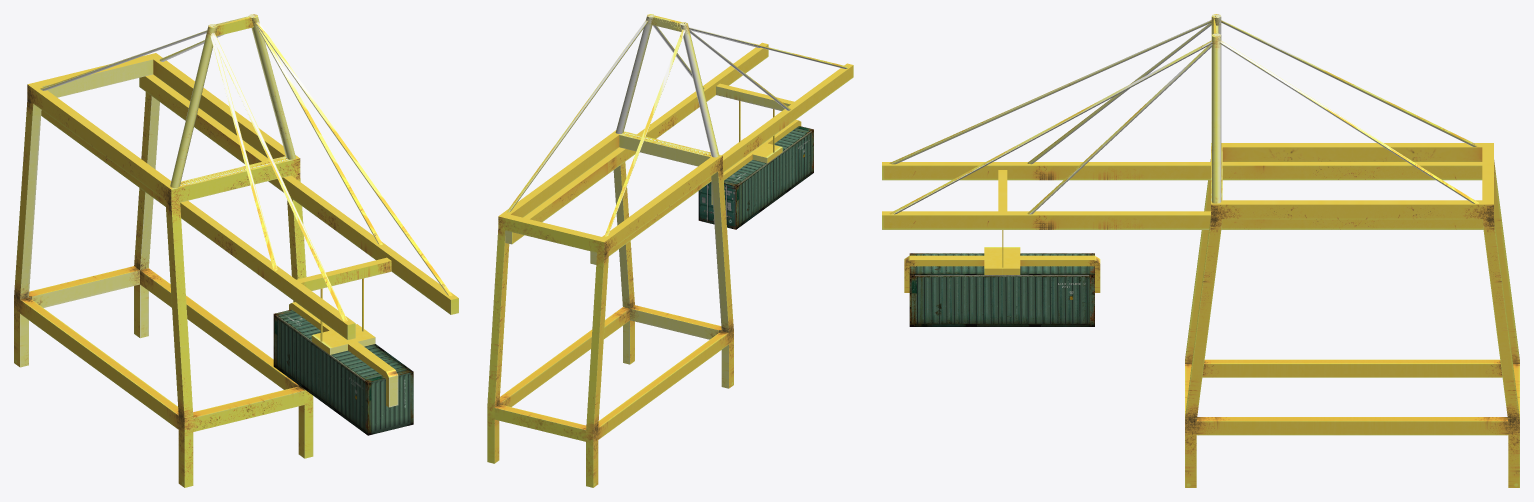
File: Transporter.FBX
3 renders of one model, left to right at view 1: azimuth 30°, elevation 25°; view 2: azimuth 150°, elevation 25°; view 3: azimuth 270°, elevation 25°, orthographic. The views are drawn at different scales.
Parts seen in each view (by area): view 1: Object002, Container01; view 2: Object002, Container01; view 3: Object002, Container01.
Boxes of the visible parts, x1,y1,x2,y2 form: Object002: [14, 14, 458, 487]; Container01: [273, 309, 413, 435]; Object002: [487, 14, 853, 487]; Container01: [698, 126, 813, 229]; Object002: [882, 14, 1519, 487]; Container01: [909, 253, 1094, 326].
Bounding box in the file's own units: 511 × 1665 × 2231.
Materials: 2 (2 with a texture image).
